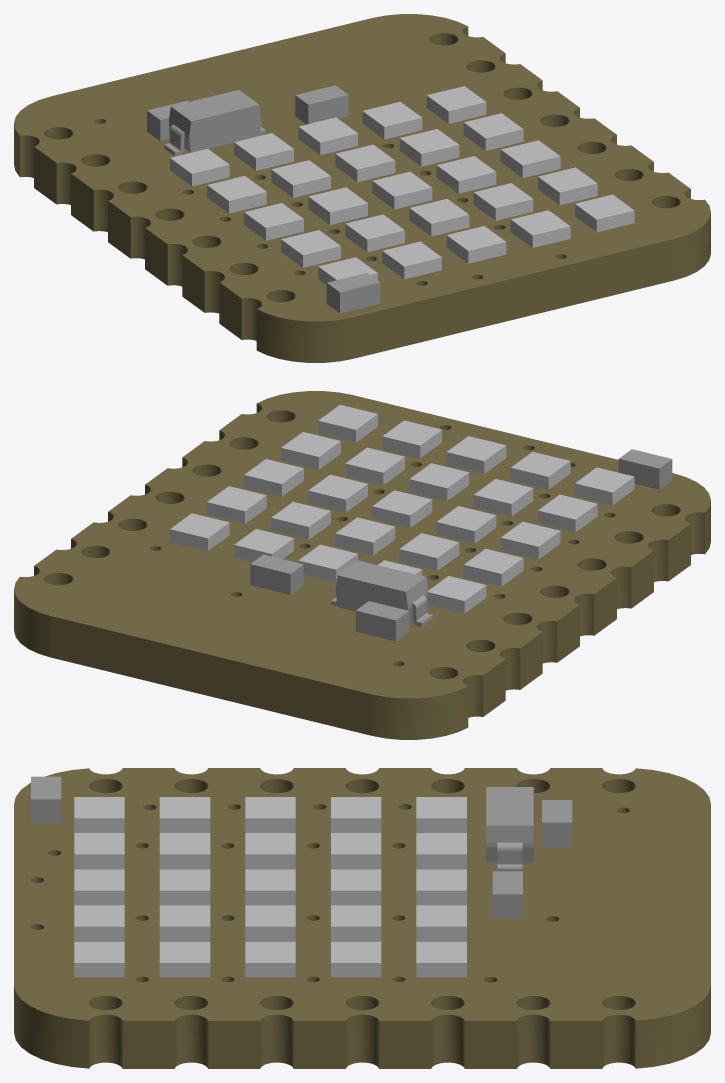
The model's file is ada-5646.glb.
3 views of the same model, one above another, from view 1: azimuth 30°, elevation 25°; view 2: azimuth 150°, elevation 25°; view 3: azimuth 270°, elevation 25° (orthographic). The views are drawn at different scales.
Parts seen in each view (by area): view 1: 0.16666666666666666_0.16666666666666666_0.08333333333333333_, 0.5833333333333334_0.5833333333333334_0.5833333333333334_0.8, 0.3333333333333333_0.3333333333333333_0.3333333333333333_0; view 2: 0.16666666666666666_0.16666666666666666_0.08333333333333333_, 0.5833333333333334_0.5833333333333334_0.5833333333333334_0.8, 0.3333333333333333_0.3333333333333333_0.3333333333333333_0; view 3: 0.16666666666666666_0.16666666666666666_0.08333333333333333_, 0.5833333333333334_0.5833333333333334_0.5833333333333334_0.8, 0.3333333333333333_0.3333333333333333_0.3333333333333333_0.
Boxes of the visible parts, x1,y1,x2,y2 form: 0.16666666666666666_0.16666666666666666_0.08333333333333333_: (14, 14, 710, 362); 0.5833333333333334_0.5833333333333334_0.5833333333333334_0.8: (170, 86, 634, 284); 0.3333333333333333_0.3333333333333333_0.3333333333333333_0: (147, 85, 380, 313); 0.16666666666666666_0.16666666666666666_0.08333333333333333_: (14, 391, 710, 739); 0.5833333333333334_0.5833333333333334_0.5833333333333334_0.8: (170, 404, 634, 613); 0.3333333333333333_0.3333333333333333_0.3333333333333333_0: (250, 449, 672, 641); 0.16666666666666666_0.16666666666666666_0.08333333333333333_: (14, 768, 710, 1068); 0.5833333333333334_0.5833333333333334_0.5833333333333334_0.8: (74, 797, 466, 977); 0.3333333333333333_0.3333333333333333_0.3333333333333333_0: (31, 776, 572, 918).
Size of the model in its own units: 1.78 by 0.292 by 2.07.
